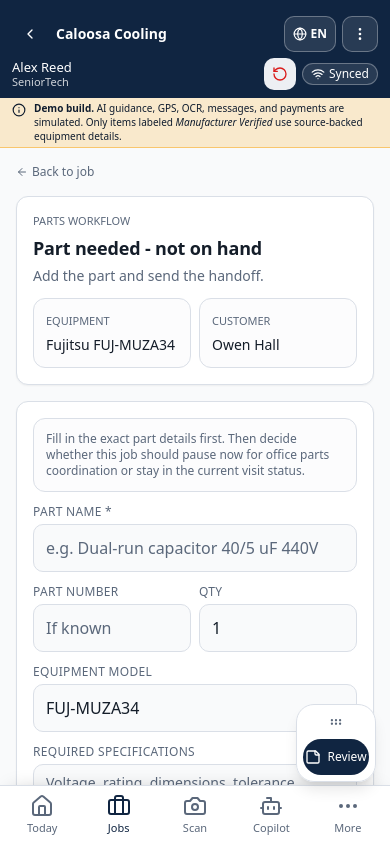
migration baseline › submits a parts request that really moves the job to Waiting for Parts and saves the office handoff
This screenshot has width=390, height=844.
Step 1. Type "OEM blower motor" into the field with placeholder "e.g. Dual-run capacitor 40/5 uF 440V" → (195, 548), box [33,524,357,572]
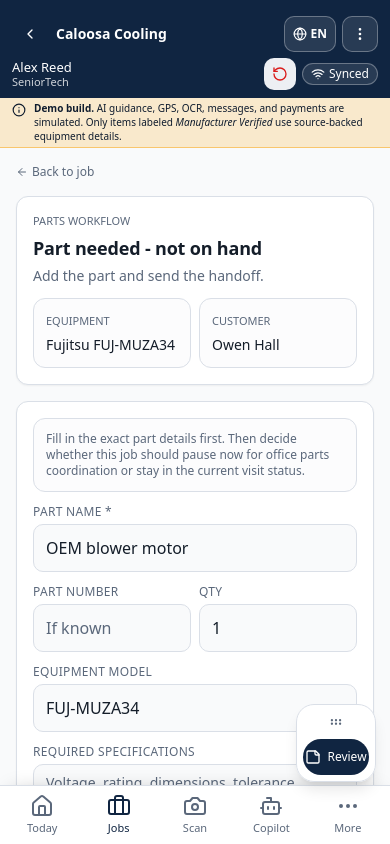
Step 2. Type "MTR-220-ECM" into the field with placeholder "If known" → (112, 628), box [33,604,191,652]
(page scrolled)
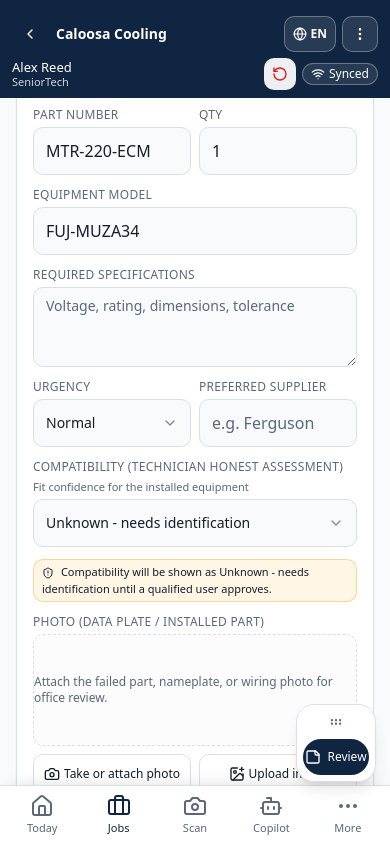
Step 3. Type "Johnstone" into the field with placeholder "e.g. Ferguson" → (278, 423), box [199,399,357,447]
(page scrolled)
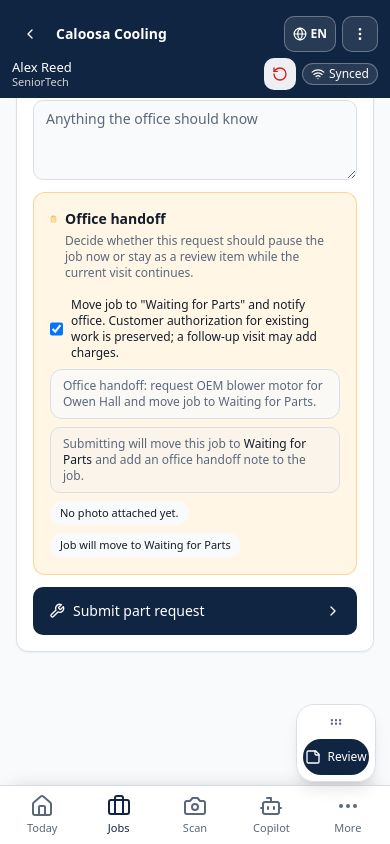
Step 4. Click the button "Submit part request" → (195, 611), box [33,587,357,635]
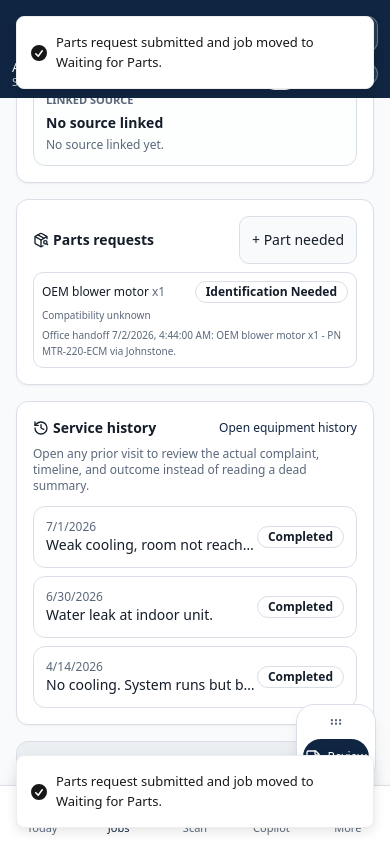
Now the text "Identification Needed" is shown, box [195,281,348,303]
